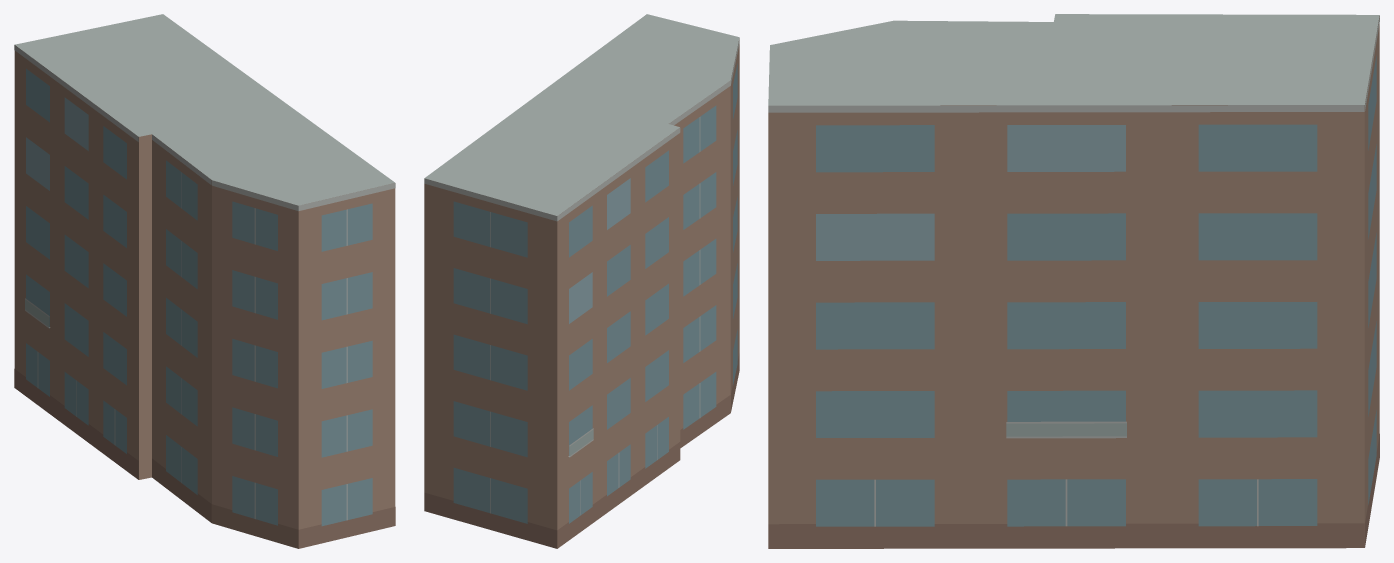
Rendered from survey-upis-32871315.glb.
The picture shows the model from 3 angles, left to right: view 1: azimuth 30°, elevation 25°; view 2: azimuth 150°, elevation 25°; view 3: azimuth 270°, elevation 25°; orthographic projection. The views are drawn at different scales.
Parts seen in each view (by area): view 1: survey-upis-32871315.tmp; view 2: survey-upis-32871315.tmp; view 3: survey-upis-32871315.tmp.
Boxes of the visible parts, <box> form: survey-upis-32871315.tmp: <box>14,14,395,548</box>; survey-upis-32871315.tmp: <box>424,14,739,548</box>; survey-upis-32871315.tmp: <box>768,14,1379,548</box>.
Bounding box in the file's own units: 6.79 × 15.25 × 19.08.
